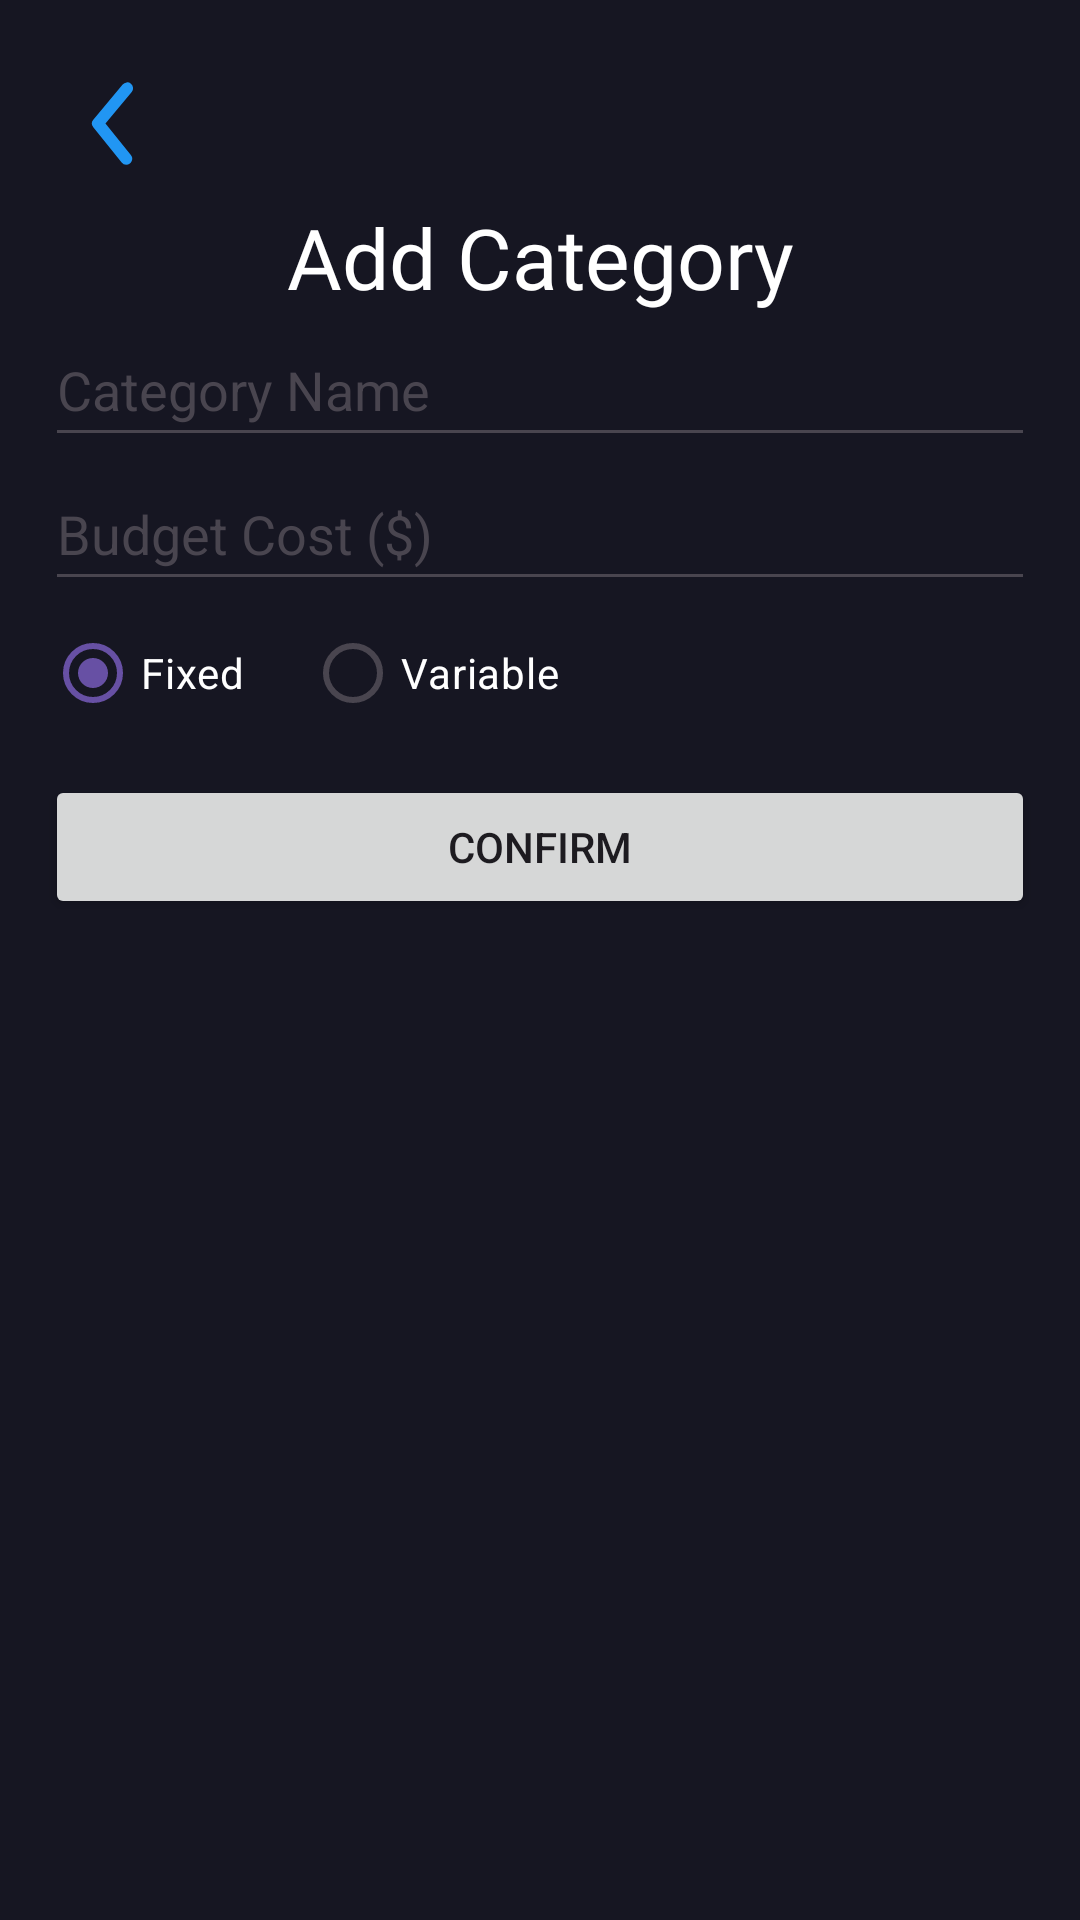

Screen size 1080px x 1920px. Icon name, then its box in pixels as (x1, y1, x2, y2):
arrow back: (91, 82, 133, 165)
